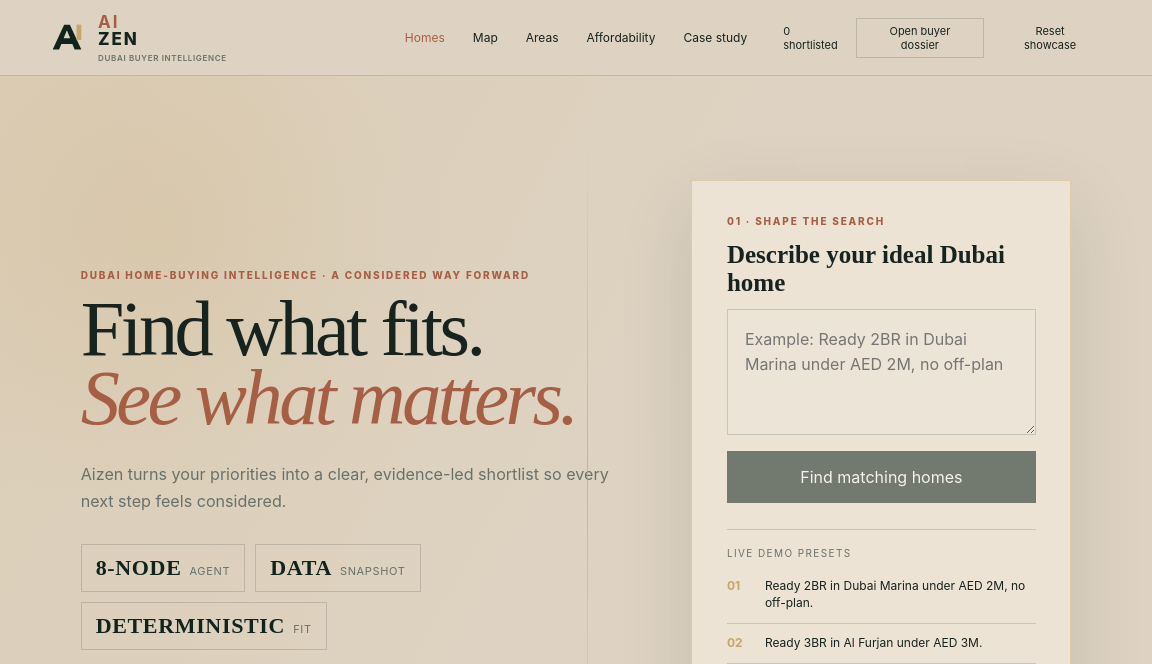
Test case: interprets and automatically starts the live run with one action
Type "Ready 2BR in Dubai Marina under AED 2M" into the text box labelled "Describe your ideal Dubai home".
click(881, 372); type("Ready 2BR in Dubai Marina under AED 2M")  # box [727, 309, 1036, 435]
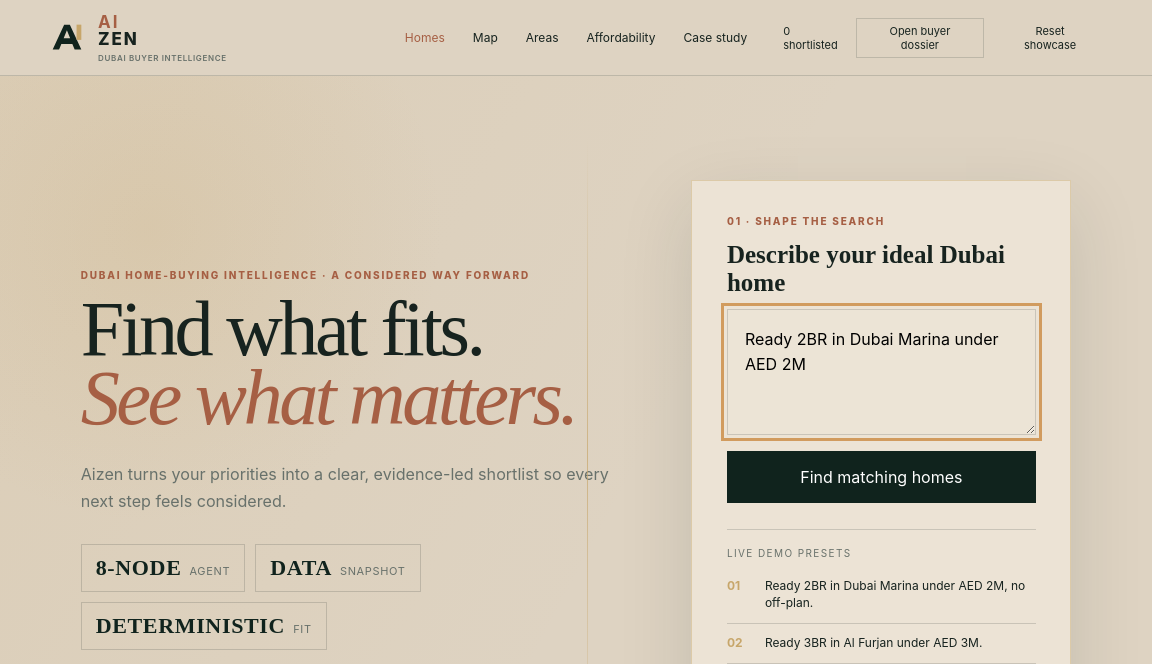
Click the button "Find matching homes".
click(881, 477)  # box [727, 451, 1036, 503]
(page scrolled)
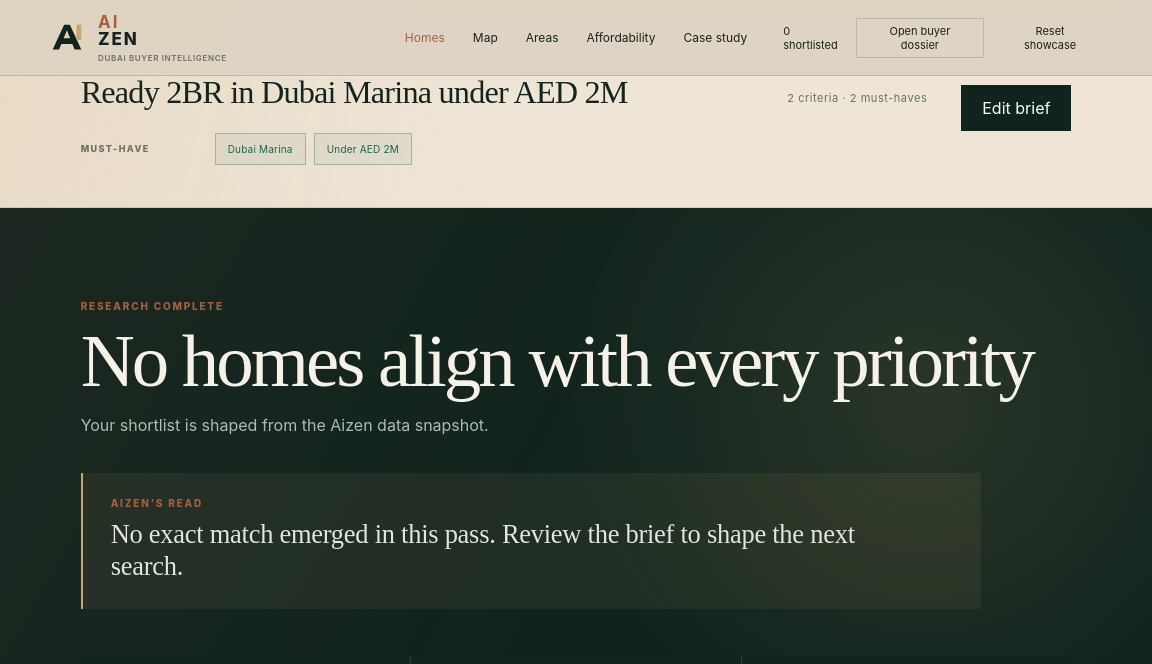
Now the heading "No homes align with every priority" is shown, box [81, 326, 1061, 396]
Now the number of buttons "Edit brief" is 2
